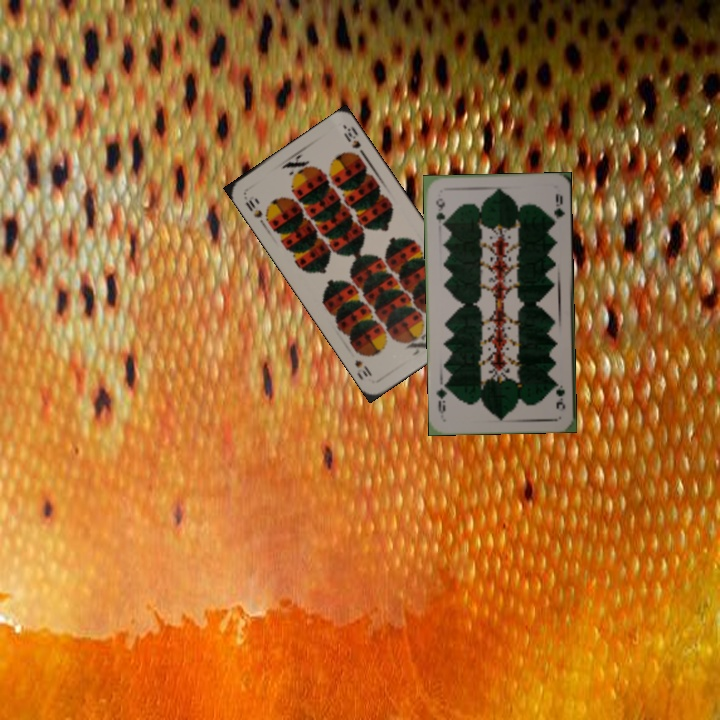G9: (551, 378, 568, 412), (432, 194, 447, 230)
S10: (241, 195, 265, 221)
